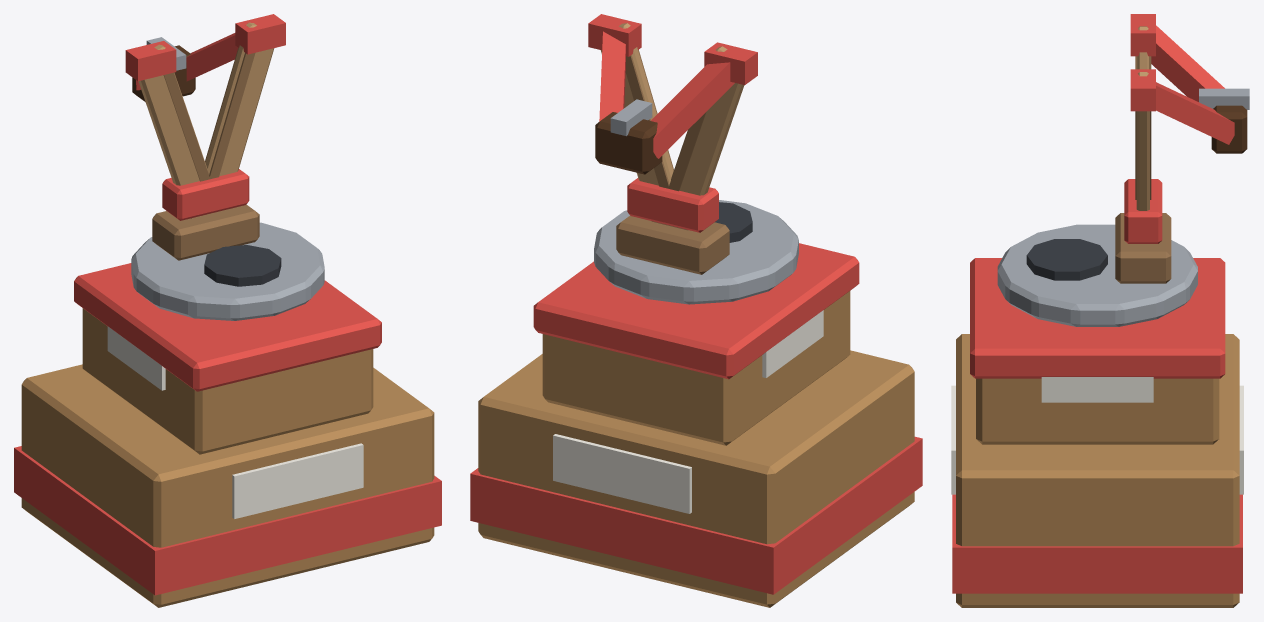
The model's file is artillery_core.glb.
The picture shows the model from 3 angles, left to right: view 1: azimuth 30°, elevation 25°; view 2: azimuth 150°, elevation 25°; view 3: azimuth 270°, elevation 25°; orthographic projection. The views are drawn at different scales.
Parts seen in each view (by area): view 1: artillery_core_mesh; view 2: artillery_core_mesh; view 3: artillery_core_mesh.
Part boxes in pixels (left/top/right/bottom): artillery_core_mesh: left=14, top=14, right=441, bottom=607; artillery_core_mesh: left=470, top=14, right=922, bottom=607; artillery_core_mesh: left=951, top=14, right=1249, bottom=607.
Size of the model in its own units: 0.674 by 1.07 by 0.589.
